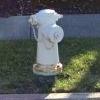a fire hydrant: (27, 8, 67, 76)
